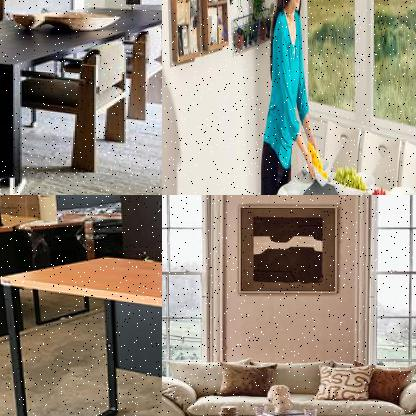table: (0, 2, 161, 188), (0, 254, 161, 415), (264, 149, 415, 194)
